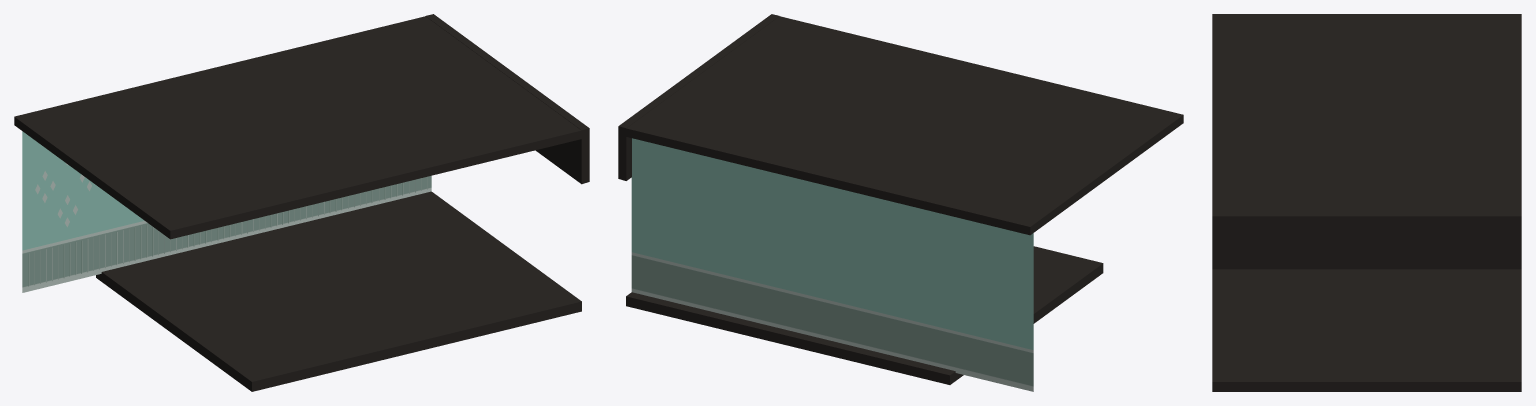
File: kitchen_walls.FBX
3 views of the same model, side by side, from view 1: azimuth 30°, elevation 25°; view 2: azimuth 150°, elevation 25°; view 3: azimuth 270°, elevation 25° (orthographic).
Visible parts, largest first — view 1: kitchen_walls; view 2: kitchen_walls; view 3: kitchen_walls.
Boxes of the visible parts, x1,y1,x2,y2 form: kitchen_walls: (14, 14, 589, 391); kitchen_walls: (618, 14, 1183, 391); kitchen_walls: (1212, 14, 1521, 391).
Bounding box in the file's own units: 934 × 386 × 602.
Materials: 1 (1 with a texture image).
